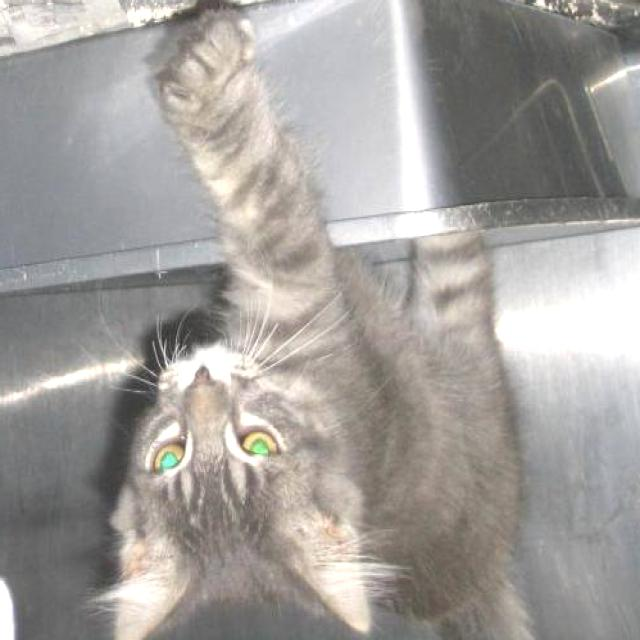Kucing: (41, 25, 556, 640)
